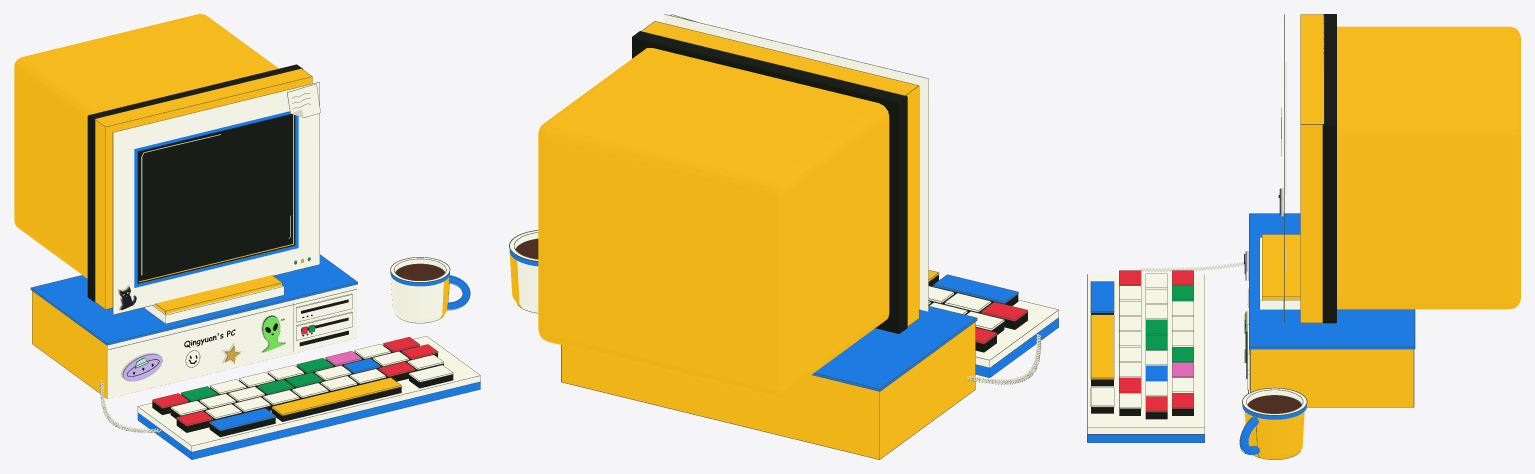
File: reference-computer.glb
3 views of the same model, side by side, from view 1: azimuth 30°, elevation 25°; view 2: azimuth 150°, elevation 25°; view 3: azimuth 270°, elevation 25° (orthographic). The views are drawn at different scales.
Visible parts, largest first — view 1: Paint Sunflower yellow, Paint Ivory paper, ScreenCover.001, Paint Electric blue, Paint Fine ink outlines, Paint Ink, CoffeeCup, Keycap_28, Keycap_27, Sticker_Note, Sticker_UFO, Keycap_29 (+4 smaller); view 2: Paint Sunflower yellow, Paint Ink, Paint Electric blue, Paint Ivory paper, Paint Fine ink outlines, CoffeeCup, Keycap_27, Keycap_18, Keycap_19; view 3: Paint Sunflower yellow, Paint Electric blue, Paint Ivory paper, Paint Ink, CoffeeCup, Paint Fine ink outlines, Keycap_28, Keycap_27, Keycap_29, Keycap_17, Keycap_26, Keycap_08 (+2 smaller).
Boxes of the visible parts, x1=… form: Paint Sunflower yellow: x1=14, y1=14, x2=312, y2=397; Paint Ivory paper: x1=107, y1=82, x2=480, y2=451; ScreenCover.001: x1=138, y1=115, x2=292, y2=281; Paint Electric blue: x1=31, y1=111, x2=480, y2=459; Paint Fine ink outlines: x1=30, y1=68, x2=480, y2=459; Paint Ink: x1=87, y1=64, x2=348, y2=346; CoffeeCup: x1=390, y1=257, x2=470, y2=323; Keycap_28: x1=271, y1=377, x2=401, y2=421; Keycap_27: x1=209, y1=408, x2=275, y2=437; Sticker_Note: x1=287, y1=83, x2=320, y2=117; Sticker_UFO: x1=121, y1=352, x2=162, y2=381; Keycap_29: x1=409, y1=365, x2=453, y2=388; Paint Sunflower yellow: x1=538, y1=21, x2=975, y2=459; Paint Ink: x1=632, y1=31, x2=907, y2=333; Paint Electric blue: x1=812, y1=306, x2=1058, y2=390; Paint Ivory paper: x1=664, y1=14, x2=1058, y2=367; Paint Fine ink outlines: x1=561, y1=14, x2=1058, y2=459; CoffeeCup: x1=509, y1=230, x2=538, y2=313; Keycap_27: x1=933, y1=274, x2=1018, y2=305; Keycap_18: x1=981, y1=292, x2=1027, y2=329; Keycap_19: x1=944, y1=293, x2=991, y2=313; Paint Sunflower yellow: x1=1250, y1=14, x2=1520, y2=407; Paint Electric blue: x1=1087, y1=213, x2=1414, y2=442; Paint Ivory paper: x1=1087, y1=237, x2=1300, y2=433; Paint Ink: x1=1246, y1=14, x2=1336, y2=393; CoffeeCup: x1=1239, y1=387, x2=1307, y2=459; Paint Fine ink outlines: x1=1087, y1=14, x2=1415, y2=442; Keycap_28: x1=1090, y1=315, x2=1119, y2=386; Keycap_27: x1=1090, y1=281, x2=1119, y2=314; Keycap_29: x1=1090, y1=387, x2=1114, y2=413; Keycap_17: x1=1141, y1=396, x2=1172, y2=419; Keycap_26: x1=1114, y1=393, x2=1145, y2=415; Keycap_08: x1=1167, y1=393, x2=1193, y2=415.
Bounding box in the file's own units: 7.21 × 4.71 × 6.57.
